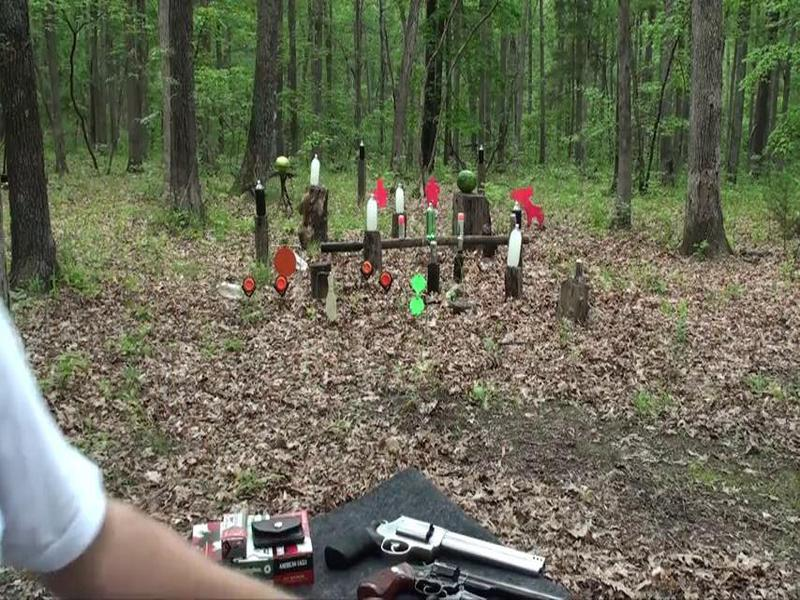Revolver: (306, 503, 562, 582)
